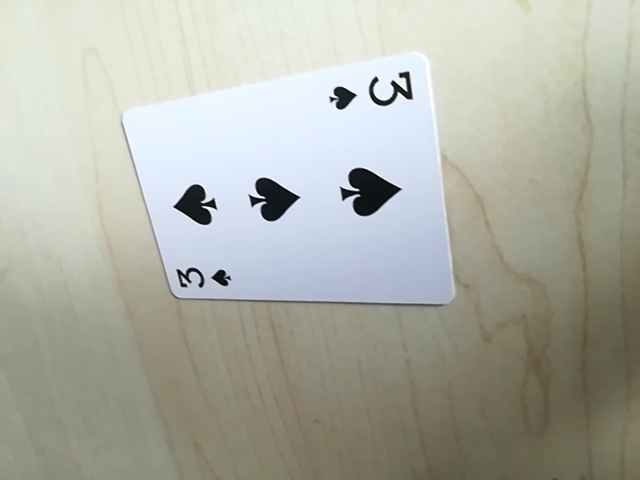ht 3: (327, 65, 419, 117), (168, 262, 235, 296)
